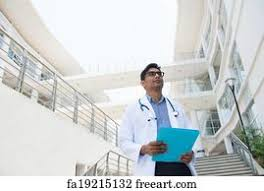Indian_Male: (141, 66, 164, 88)
